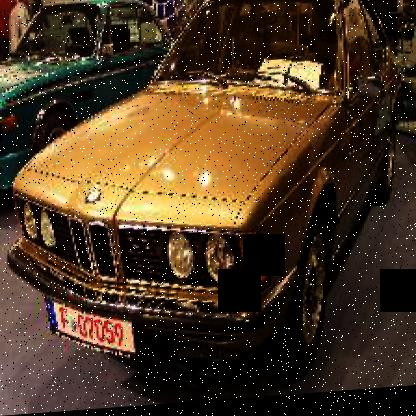not_emergency: (17, 0, 412, 389)
